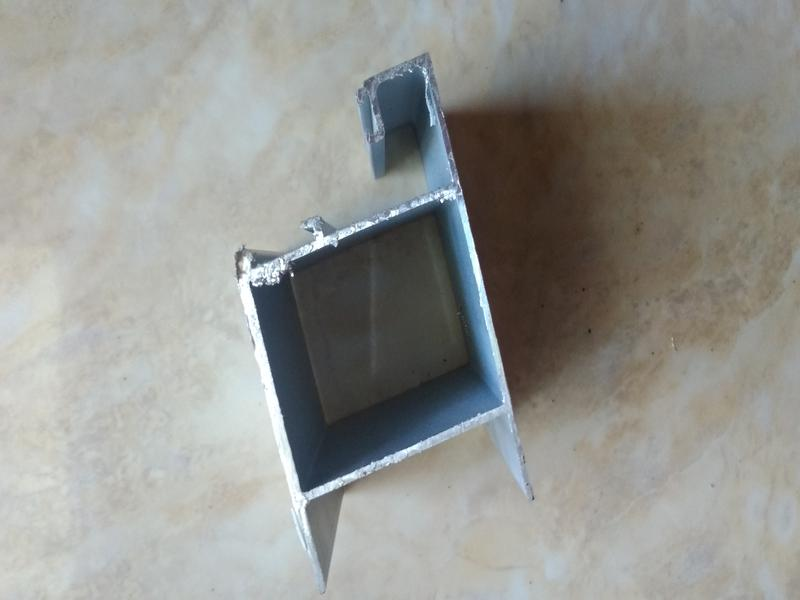Aluminium_2: (170, 24, 589, 596)
